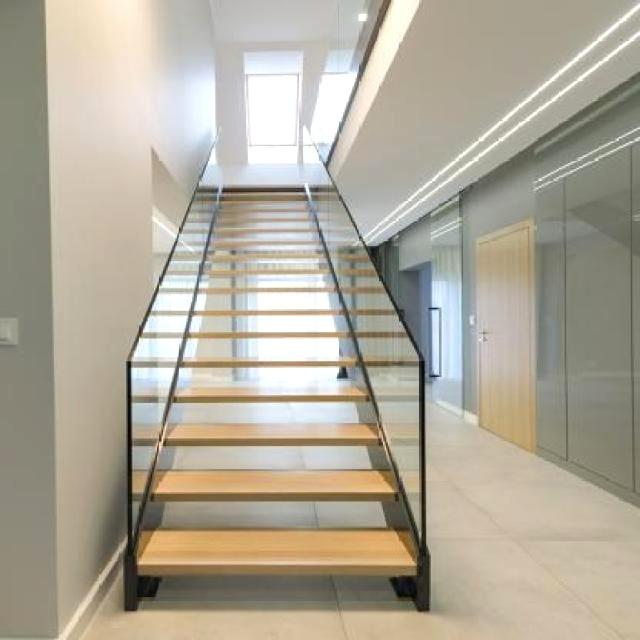stair: (60, 114, 418, 608)
